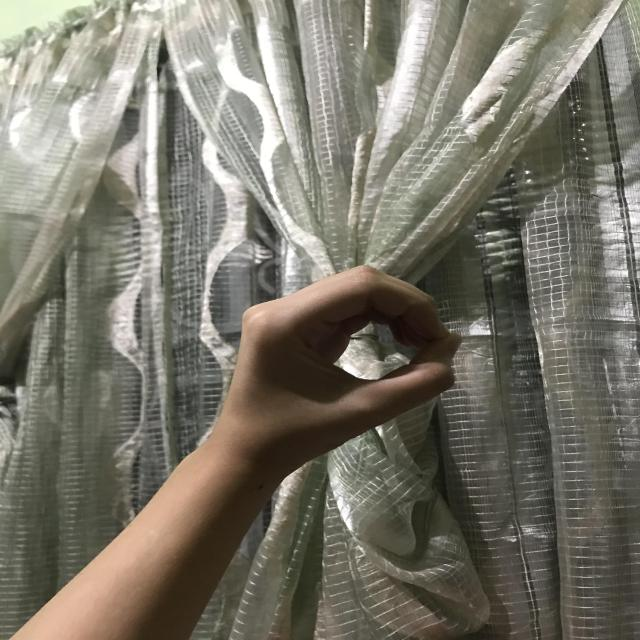O: (224, 261, 469, 473)
